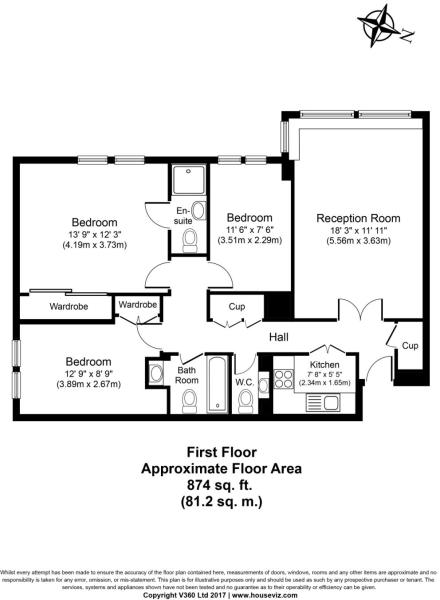GrossArea: (132, 459, 310, 517)
